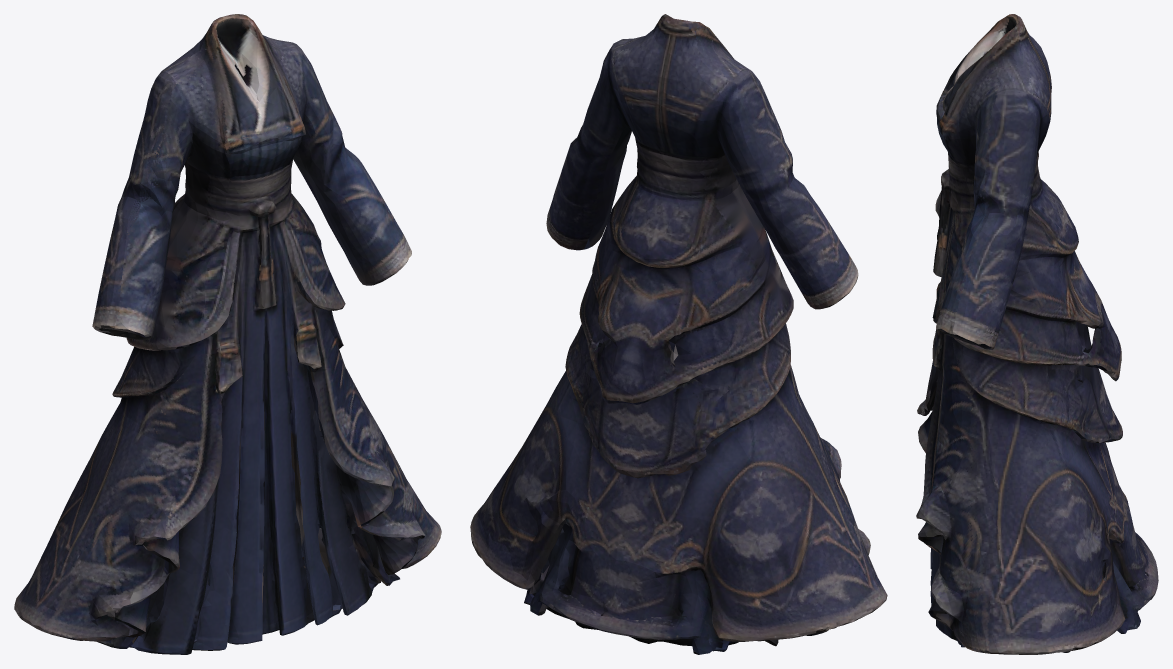
The model's file is mitsue_clerk_r_source.glb.
The picture shows the model from 3 angles, left to right: view 1: azimuth 30°, elevation 25°; view 2: azimuth 150°, elevation 25°; view 3: azimuth 270°, elevation 25°; orthographic projection. The views are drawn at different scales.
Visible parts, largest first — view 1: temp_mesh.ply; view 2: temp_mesh.ply; view 3: temp_mesh.ply.
Boxes of the visible parts, left/top/right/bottom form: temp_mesh.ply: left=14, top=14, right=441, bottom=654; temp_mesh.ply: left=470, top=14, right=887, bottom=654; temp_mesh.ply: left=916, top=14, right=1158, bottom=654.
Bounding box in the file's own units: 1.43 × 1.97 × 0.7564.
1 material, 1 textured.
